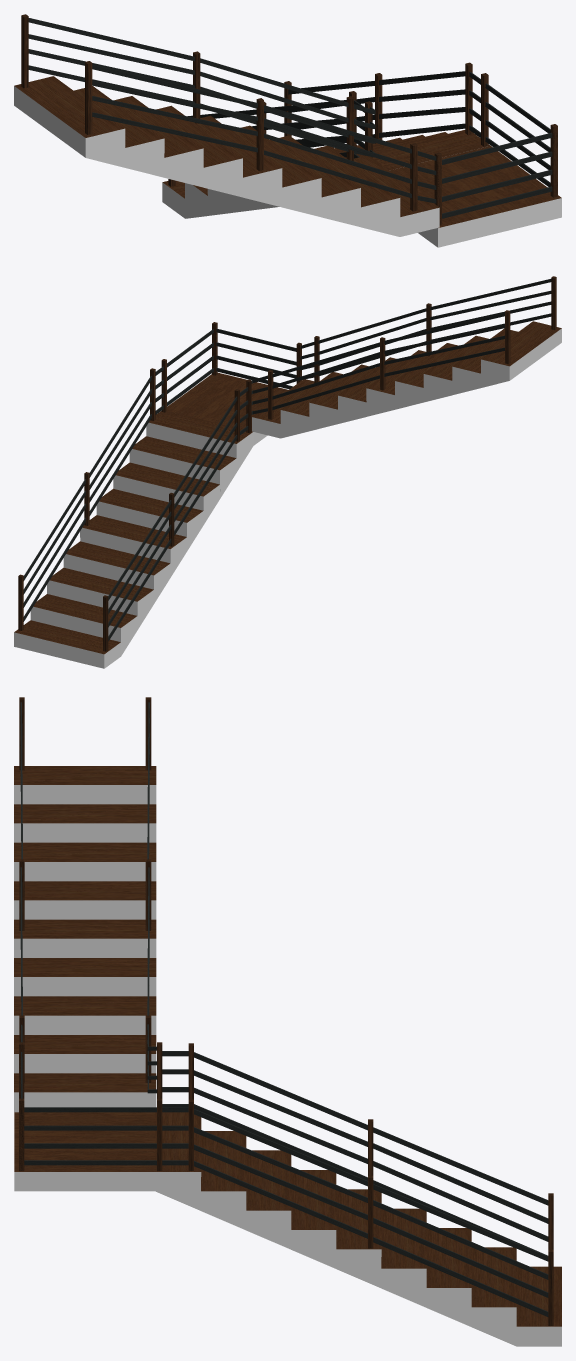
File: Escalera.fbx
3 views of the same model, one above another, from view 1: azimuth 30°, elevation 25°; view 2: azimuth 150°, elevation 25°; view 3: azimuth 270°, elevation 25° (orthographic). The views are drawn at different scales.
Visible parts, largest first — view 1: Mitad escalera, Escalon.009, Escalon.012, Escalon.011, Escalon.015, Escalon.016, Escalon.010, Escalon.014, Escalon.013, Escalon.017, Escalon.008, Cube.041 (+32 smaller); view 2: Mitad escalera, Escalon, Escalon.001, Escalon.003, Escalon.007, Escalon.006, Escalon.002, Escalon.004, Escalon.008, Escalon.005, Escalon.009, Escalon.011 (+30 smaller); view 3: Mitad escalera, Escalon.014, Escalon.010, Escalon.011, Escalon.009, Escalon.013, Escalon.015, Escalon.012, Escalon.016, Escalon.017, Escalon.003, Escalon.001 (+22 smaller).
Boxes of the visible parts, x1,y1,x2,y2 form: Mitad escalera: (389, 146, 561, 247); Escalon.009: (14, 76, 125, 167); Escalon.012: (156, 105, 242, 197); Escalon.011: (114, 96, 203, 187); Escalon.015: (270, 135, 360, 226); Escalon.016: (314, 145, 400, 236); Escalon.010: (74, 86, 164, 177); Escalon.014: (231, 125, 321, 216); Escalon.013: (197, 115, 282, 207); Escalon.017: (354, 155, 439, 236); Escalon.008: (358, 130, 490, 170); Cube.041: (28, 18, 257, 107); Mitad escalera: (167, 372, 288, 445); Escalon: (14, 620, 120, 668); Escalon.001: (30, 594, 137, 656); Escalon.003: (63, 541, 170, 603); Escalon.007: (129, 436, 236, 498); Escalon.006: (113, 462, 220, 524); Escalon.002: (47, 567, 153, 629); Escalon.004: (80, 515, 186, 577); Escalon.008: (146, 411, 253, 472); Escalon.005: (96, 488, 203, 551); Escalon.009: (481, 321, 561, 387); Escalon.011: (423, 335, 488, 402); Mitad escalera: (14, 1112, 155, 1191); Escalon.014: (14, 958, 156, 996); Escalon.010: (14, 804, 156, 842); Escalon.011: (14, 842, 156, 881); Escalon.009: (14, 766, 156, 804); Escalon.013: (14, 919, 156, 957); Escalon.015: (14, 996, 156, 1034); Escalon.012: (14, 881, 156, 919); Escalon.016: (14, 1035, 156, 1073); Escalon.017: (14, 1073, 156, 1112); Escalon.003: (381, 1208, 426, 1307); Escalon.001: (471, 1247, 516, 1346).
Size of the model in its own units: 812 by 689 by 814.
4 materials, 3 textured.
